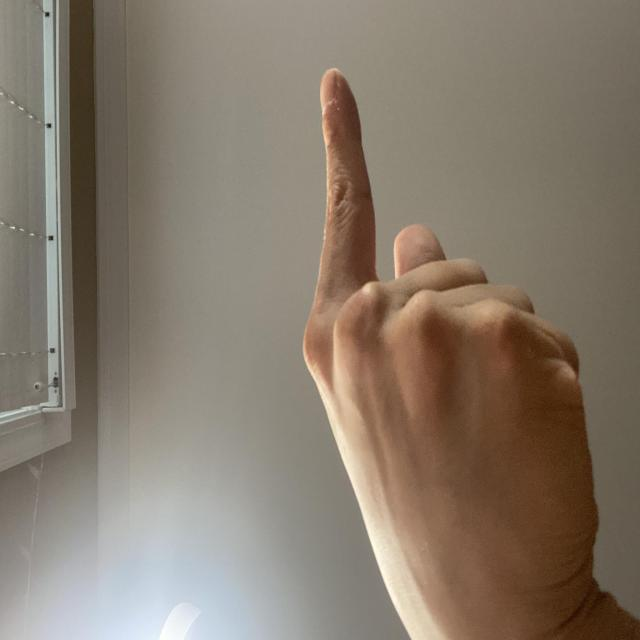G: (0, 391, 479, 640)
